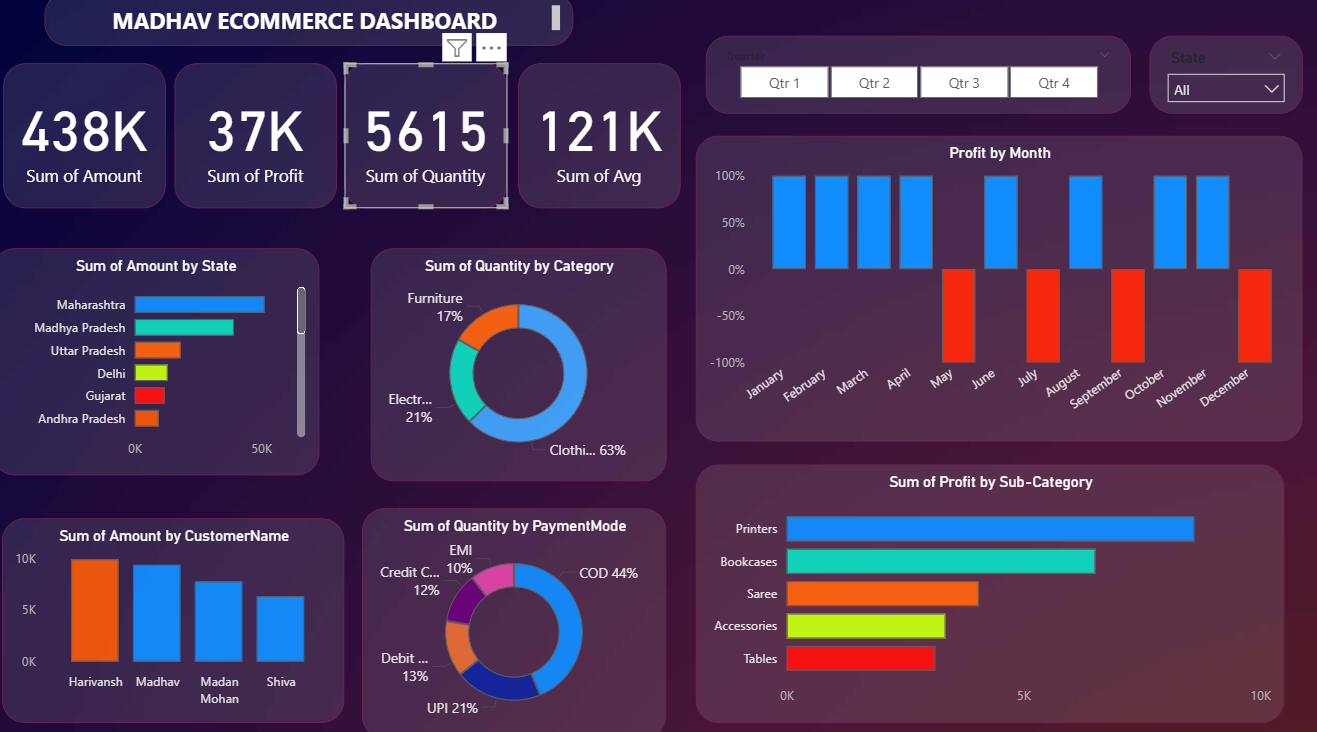

What the dashboard file says about the page in this screenshot:
{"tool":"powerbi","page":{"name":"Page 1","canvas":[1280,720],"ordinal":0},"visuals":[{"type":"textbox","box":[50.8,0,510.5,52.1],"z":0},{"type":"hundredPercentStackedColumnChart","title":" Profit by Month","fields":{"Y":["Sum(Details.Profit)"],"Category":["Orders.Order Date.Variation.Date Hierarchy.Month"]},"box":[679.2,138.6,585.9,295],"z":1000},{"type":"barChart","fields":{"Category":["Details.Sub-Category"],"Y":["Sum(Details.Profit)"]},"box":[679.2,455.6,568.1,249.7],"z":2000},{"type":"donutChart","fields":{"Category":["Details.Category"],"Y":["Sum(Details.Quantity)"]},"box":[365,247,285.4,225],"z":3000},{"type":"donutChart","fields":{"Y":["Sum(Details.Quantity)"],"Category":["Details.PaymentMode"]},"box":[356.8,498.1,293.7,222.3],"z":4000},{"type":"card","fields":{"Values":["Sum(Details.Profit)"]},"box":[175.6,68.6,156.4,140],"z":5000},{"type":"card","fields":{"Values":["Sum(Details.Quantity)"]},"box":[340.3,68.6,156.4,140],"z":6000},{"type":"card","fields":{"Values":["Sum(Details.Amount)"]},"box":[11,68.6,156.4,140],"z":7000},{"type":"card","fields":{"Values":["Sum(Details.Avg)"]},"box":[507.7,68.6,156.4,140],"z":8000},{"type":"barChart","fields":{"Category":["Orders.State"],"Y":["Sum(Details.Amount)"]},"box":[0,247,315.6,219.6],"z":9000},{"type":"columnChart","fields":{"Category":["Orders.CustomerName"],"Y":["Sum(Details.Amount)"]},"box":[9.6,507.7,330.7,197.6],"z":10000},{"type":"slicer","fields":{"Values":["Orders.Order Date.Variation.Date Hierarchy.Quarter"]},"box":[688.9,42.5,410.3,75.5],"z":11000},{"type":"slicer","fields":{"Values":["Orders.State"]},"box":[1117,42.5,148.2,75.5],"z":12000}]}

Visuals, with their boxes in screenshot pixels (x1, y1, x2, y2), scaled from the page's 1280x720 canvas onto the 1317x732 screenshot:
textbox: l=52, t=0, r=578, b=53
" Profit by Month" hundredPercentStackedColumnChart: l=699, t=141, r=1302, b=441
barChart - Details.Sub-Category x Sum(Details.Profit): l=699, t=463, r=1283, b=717
donutChart - Details.Category x Sum(Details.Quantity): l=376, t=251, r=669, b=480
donutChart - Sum(Details.Quantity) x Details.PaymentMode: l=367, t=506, r=669, b=731
card - Sum(Details.Profit): l=181, t=70, r=342, b=212
card - Sum(Details.Quantity): l=350, t=70, r=511, b=212
card - Sum(Details.Amount): l=11, t=70, r=172, b=212
card - Sum(Details.Avg): l=522, t=70, r=683, b=212
barChart - Orders.State x Sum(Details.Amount): l=0, t=251, r=325, b=474
columnChart - Orders.CustomerName x Sum(Details.Amount): l=10, t=516, r=350, b=717
slicer - Orders.Order Date.Variation.Date Hierarchy.Quarter: l=709, t=43, r=1131, b=120
slicer - Orders.State: l=1149, t=43, r=1302, b=120
